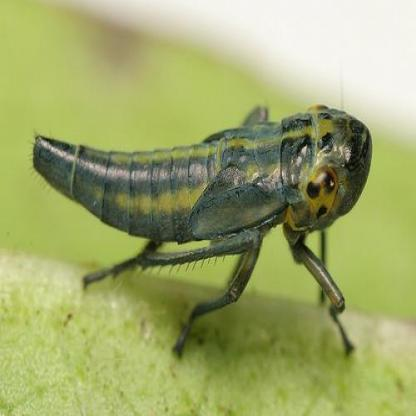Green-Leafhopper: (22, 88, 375, 363)
